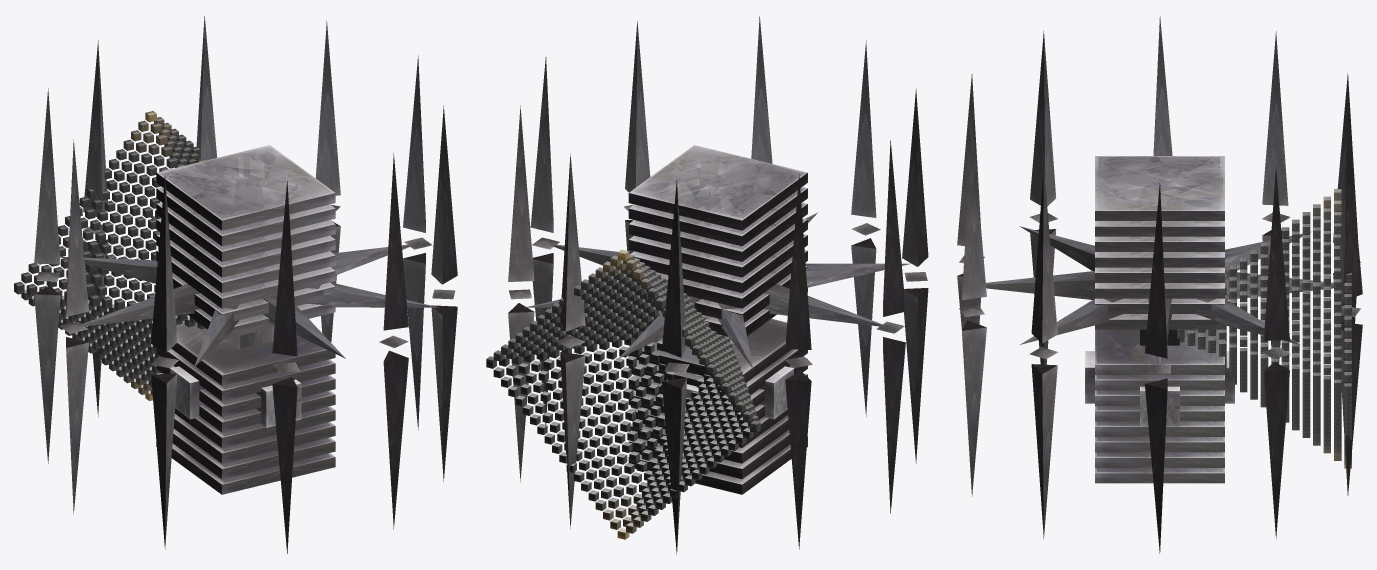
Rendered from eba004_dmtr.glb.
The picture shows the model from 3 angles, left to right: view 1: azimuth 30°, elevation 25°; view 2: azimuth 150°, elevation 25°; view 3: azimuth 270°, elevation 25°; orthographic projection.
Visible parts, largest first — view 1: eba004_dmtr; view 2: eba004_dmtr; view 3: eba004_dmtr.
Boxes of the visible parts, <box> form: eba004_dmtr: <box>14,16,457,553</box>; eba004_dmtr: <box>486,16,928,554</box>; eba004_dmtr: <box>957,16,1362,553</box>.
Bounding box in the file's own units: 40.32 × 39.57 × 38.8.
5 materials, 5 textured.
